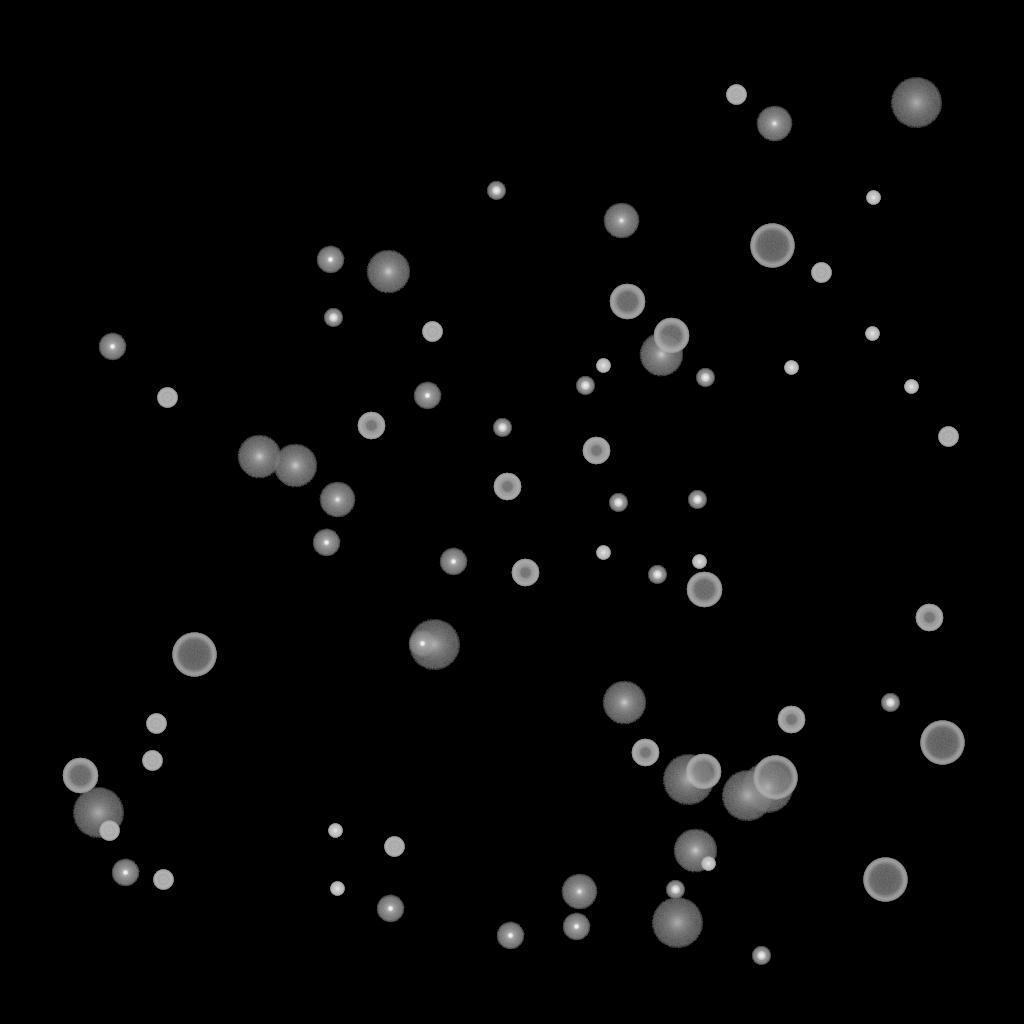depth:-10: (562, 913, 590, 941), (376, 895, 404, 923), (408, 630, 436, 658), (111, 859, 139, 887), (312, 529, 340, 557), (439, 548, 467, 576), (413, 382, 441, 410), (316, 246, 344, 274), (496, 922, 524, 950), (98, 333, 126, 361)
depth:-20: (648, 566, 666, 584), (752, 947, 770, 965), (609, 494, 627, 512), (688, 491, 706, 509), (881, 694, 899, 712), (576, 377, 594, 395), (324, 309, 342, 327), (666, 881, 684, 899), (493, 419, 511, 437), (487, 182, 505, 200), (696, 369, 714, 387)
depth:-30: (701, 857, 715, 871), (904, 380, 918, 394), (330, 882, 344, 896), (865, 327, 879, 341), (596, 546, 610, 560), (866, 191, 880, 205), (596, 359, 610, 373), (784, 361, 798, 375), (328, 824, 342, 838), (692, 555, 706, 569)
depth:-40: (157, 388, 177, 408), (938, 427, 958, 447), (811, 263, 831, 283), (146, 714, 166, 734), (99, 821, 119, 841), (384, 837, 404, 857), (153, 870, 173, 890), (142, 751, 162, 771), (422, 322, 442, 342), (726, 85, 746, 105)
depth:-50: (582, 437, 610, 465), (915, 604, 943, 632), (493, 473, 521, 501), (511, 559, 539, 587), (631, 739, 659, 767), (777, 706, 805, 734), (357, 412, 385, 440)
depth:-60: (653, 318, 689, 354), (62, 758, 98, 794), (686, 572, 722, 608), (685, 754, 721, 790), (609, 284, 645, 320)
depth:-70: (172, 633, 216, 677), (753, 756, 797, 800), (750, 224, 794, 268), (863, 858, 907, 902), (920, 721, 964, 765)
depth:0: (561, 874, 597, 910), (319, 482, 355, 518), (603, 203, 639, 239), (756, 106, 792, 142)
depth:10: (673, 829, 717, 873), (273, 444, 317, 488), (366, 250, 410, 294), (639, 333, 683, 377), (602, 681, 646, 725), (237, 435, 281, 479)
depth:20: (651, 898, 703, 948), (721, 771, 773, 821), (741, 763, 793, 813), (408, 620, 460, 670), (890, 78, 942, 128), (662, 755, 714, 805), (72, 788, 124, 838)
